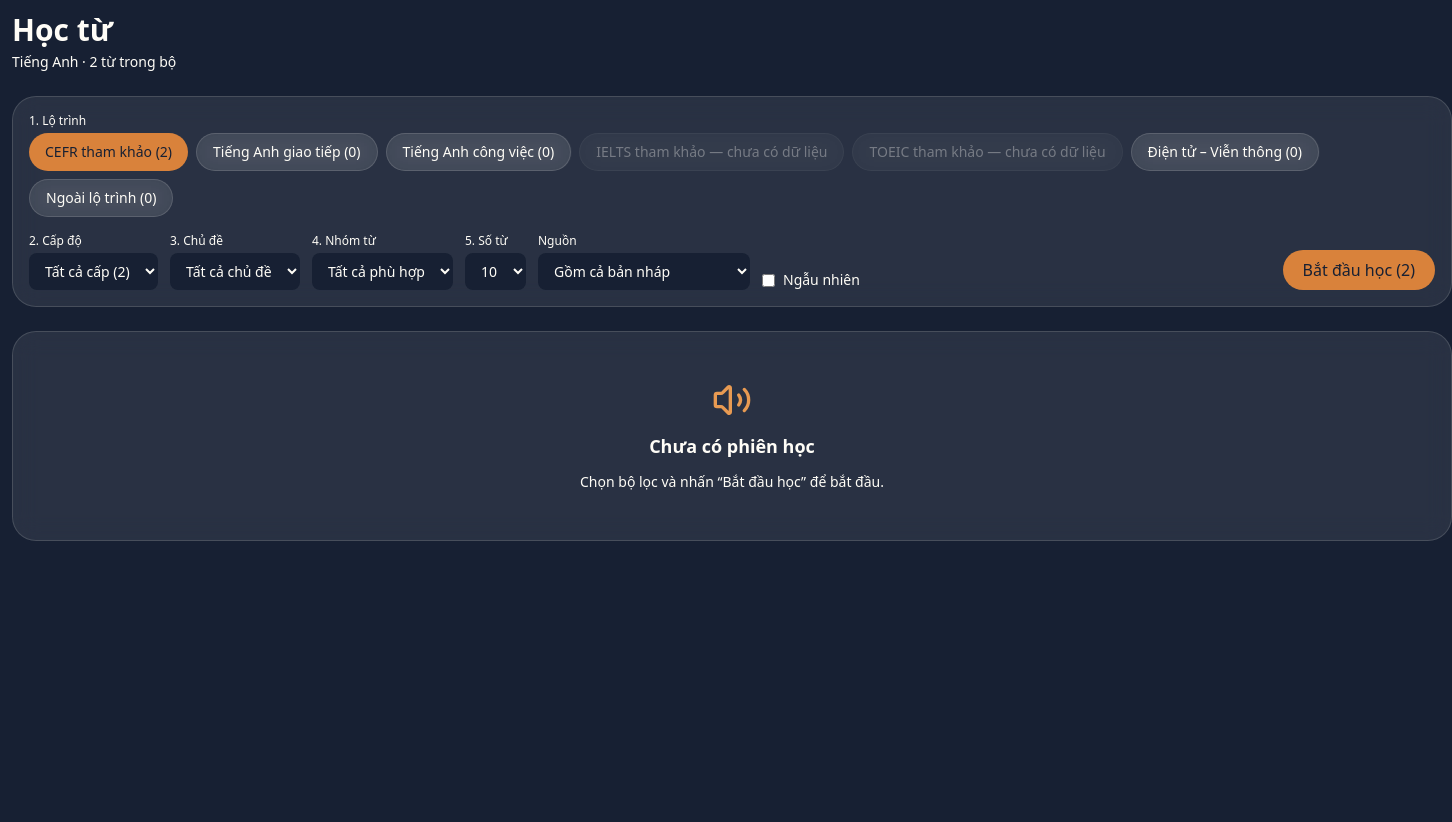
it: LearningPage — hoàn thành phiên (P0.1) › phiên nhiều thẻ: hoàn thành sau khi đánh giá hết
Click the button "Bắt đầu học (2)".
click(1359, 270)  # box [1283,250,1435,290]
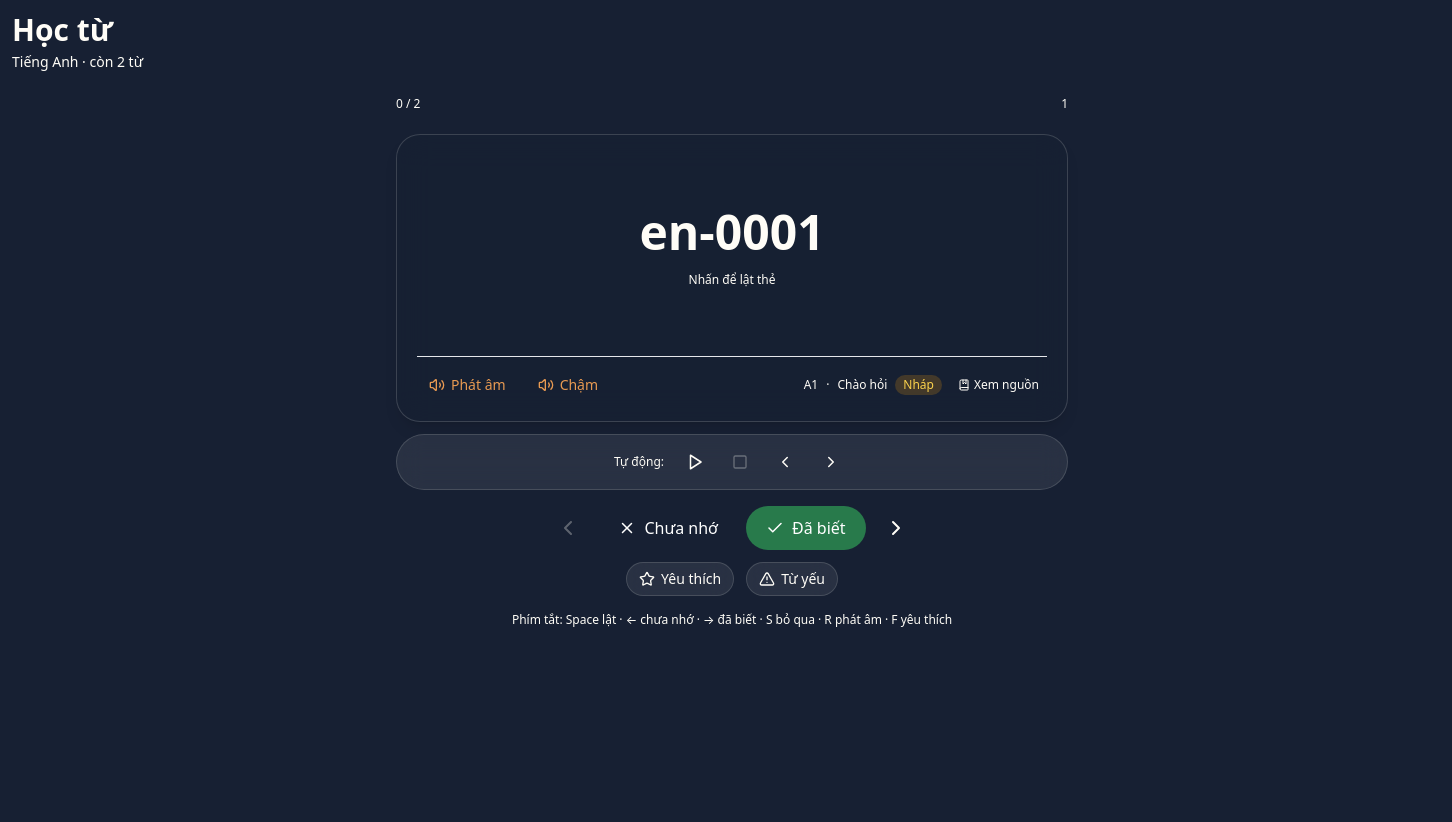
Check: the text "en-0001" is shown, box [639,208,825,256]
Click the button "Đã biết".
click(806, 528)  # box [746,506,866,550]
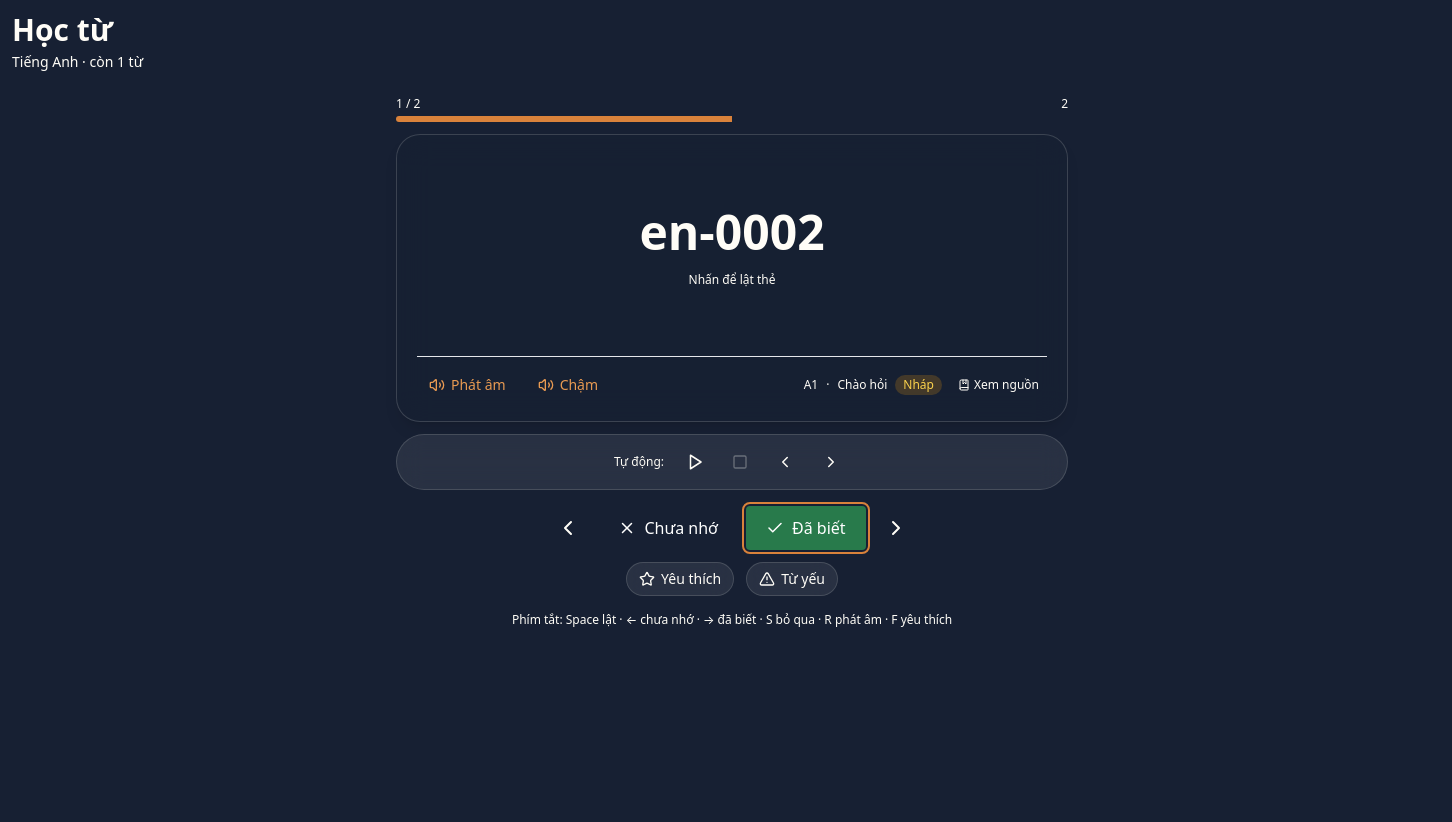
Check: the text "en-0002" is shown, box [639,208,825,256]
Click the button "Chưa nhớ".
click(668, 528)  # box [598,506,738,550]
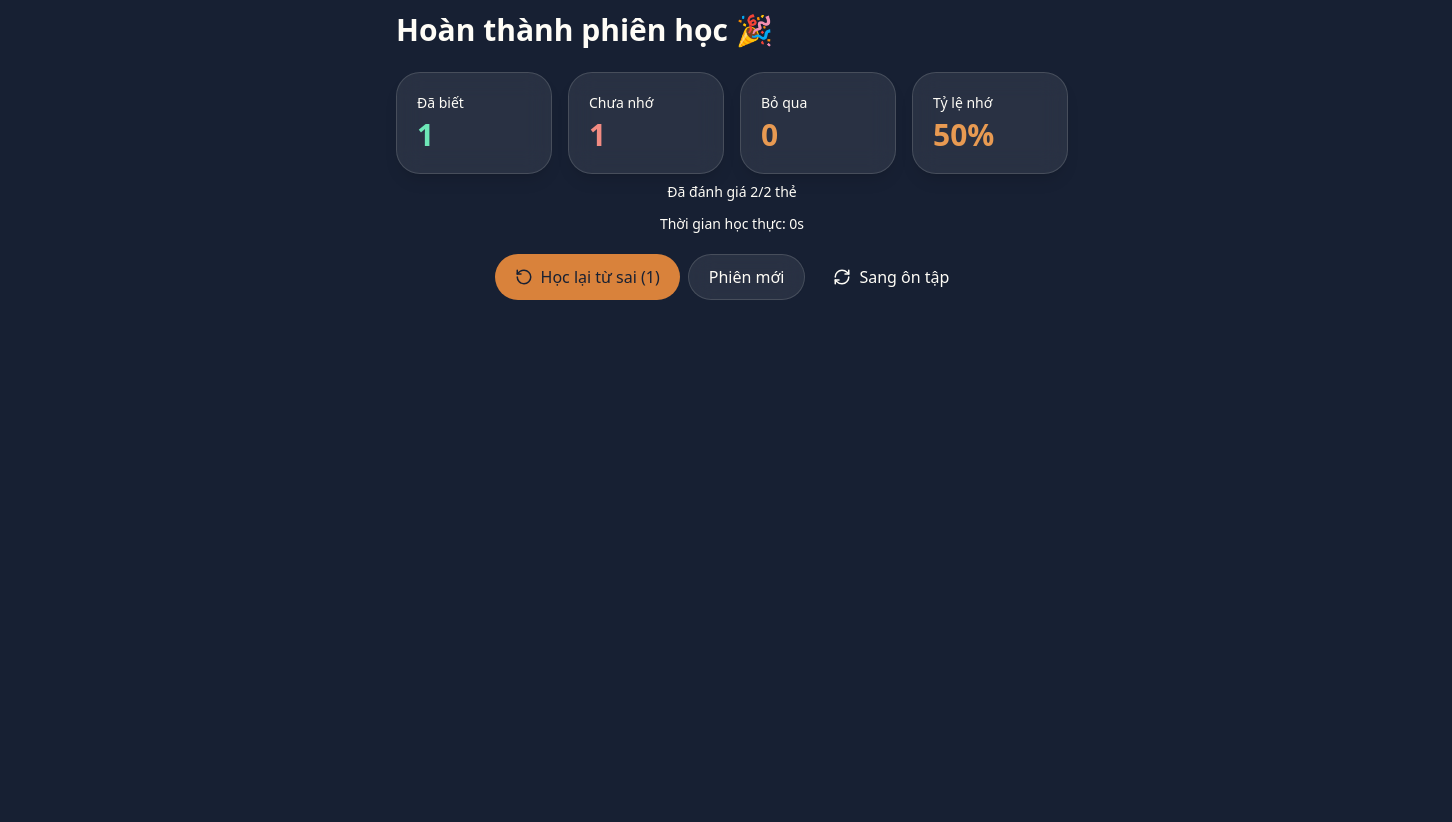
Check: the button "Học lại từ sai (1)" is shown, box [495,254,680,300]
